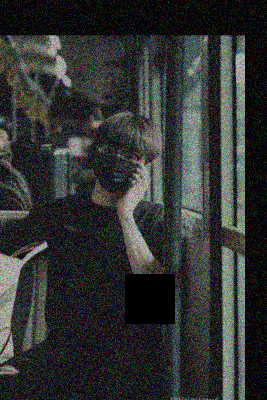with_mask: (93, 140, 145, 193)
